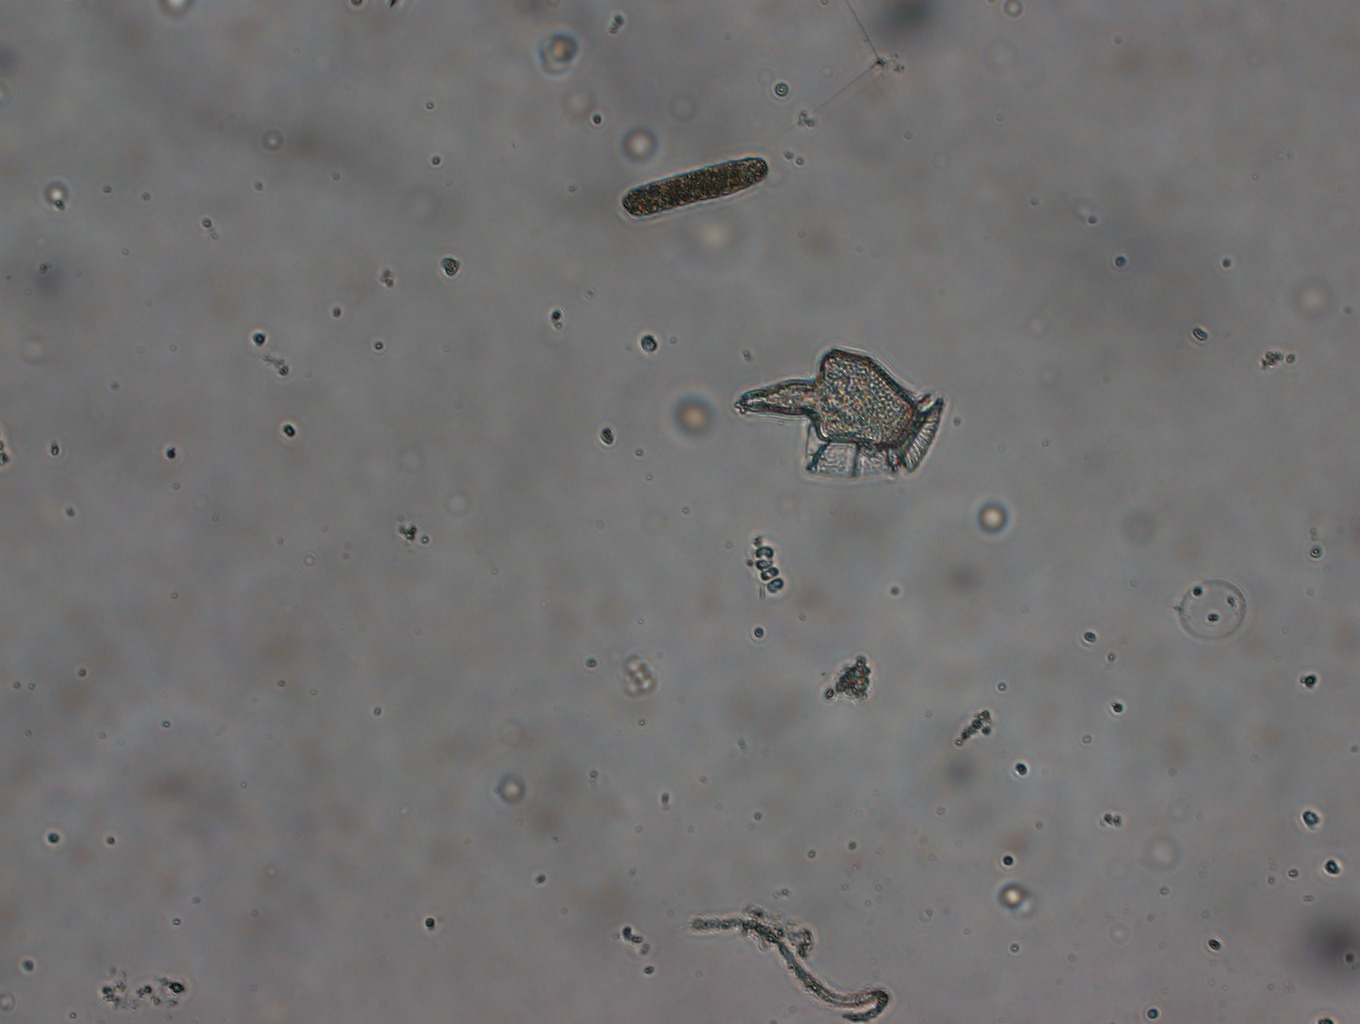dinophysis caudata: (730, 347, 946, 486)
